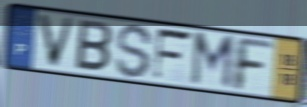B: (73, 17, 114, 75)
F: (233, 34, 276, 94), (151, 26, 195, 83)
M: (189, 31, 237, 93)
S: (114, 22, 155, 81)
V: (36, 11, 78, 71)
